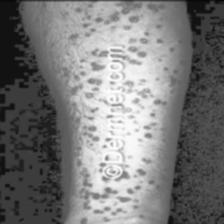Non-Cancerous Skin Condition: (69, 0, 166, 224)
